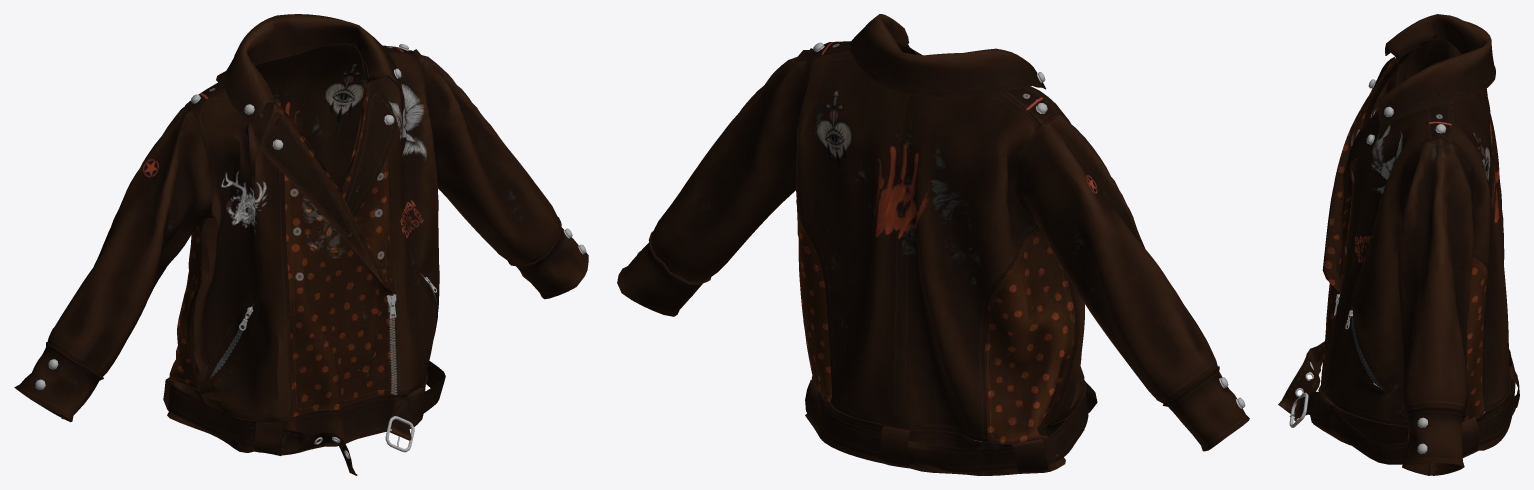
File: leather-jacket.glb
3 views of the same model, side by side, from view 1: azimuth 30°, elevation 25°; view 2: azimuth 150°, elevation 25°; view 3: azimuth 270°, elevation 25° (orthographic). The views are drawn at different scales.
Visible parts, largest first — view 1: source_mesh_2, source_mesh_8; view 2: source_mesh_2; view 3: source_mesh_2, source_mesh_8, source_mesh_1.
Part boxes in pixels (box(x1,y1,x2,y2)): source_mesh_2: box(14, 14, 588, 475); source_mesh_8: box(35, 44, 586, 458); source_mesh_2: box(617, 14, 1249, 475); source_mesh_2: box(1278, 14, 1519, 475); source_mesh_8: box(1289, 79, 1446, 453); source_mesh_1: box(1350, 303, 1385, 391).
Bounding box in the file's own units: 3.06 × 2 × 1.13.
Materials: 3 (2 with a texture image).
